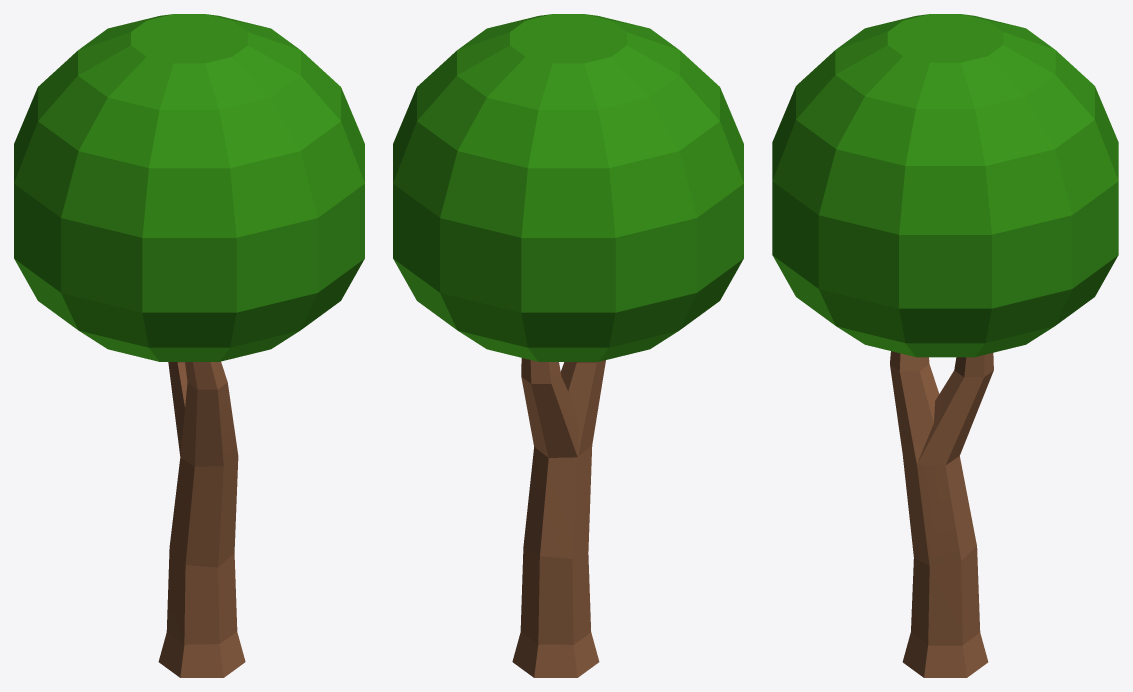
Rendered from Prop_Decorative_Tree_Elm_5.obj.
The picture shows the model from 3 angles, left to right: view 1: azimuth 30°, elevation 25°; view 2: azimuth 150°, elevation 25°; view 3: azimuth 270°, elevation 25°; orthographic projection.
Parts seen in each view (by area): view 1: Leaves, Trunk; view 2: Leaves, Trunk; view 3: Leaves, Trunk.
Part boxes in pixels (box(x1,y1,x2,y2)): Leaves: box(14, 14, 364, 361); Trunk: box(158, 361, 245, 677); Leaves: box(393, 14, 743, 361); Trunk: box(512, 358, 605, 677); Leaves: box(772, 14, 1118, 357); Trunk: box(890, 351, 993, 677).
Size of the model in its own units: 2.03 by 4 by 2.03.
